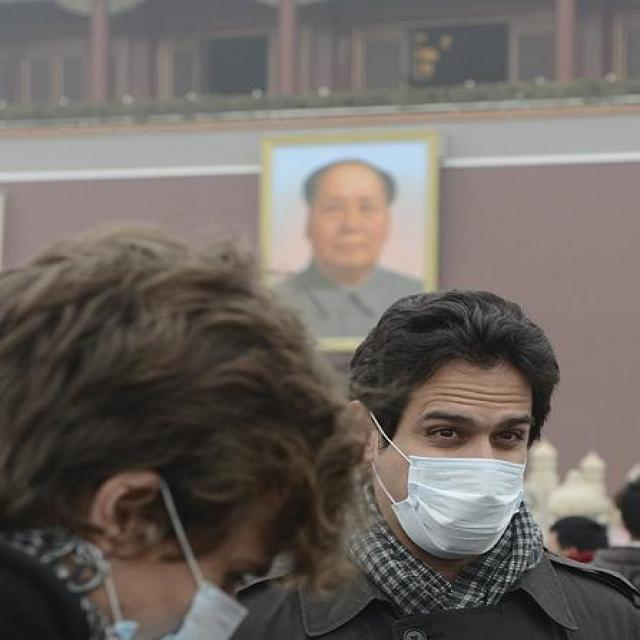mask: (393, 363, 529, 549), (120, 483, 278, 638)
nomask: (310, 170, 386, 266)
